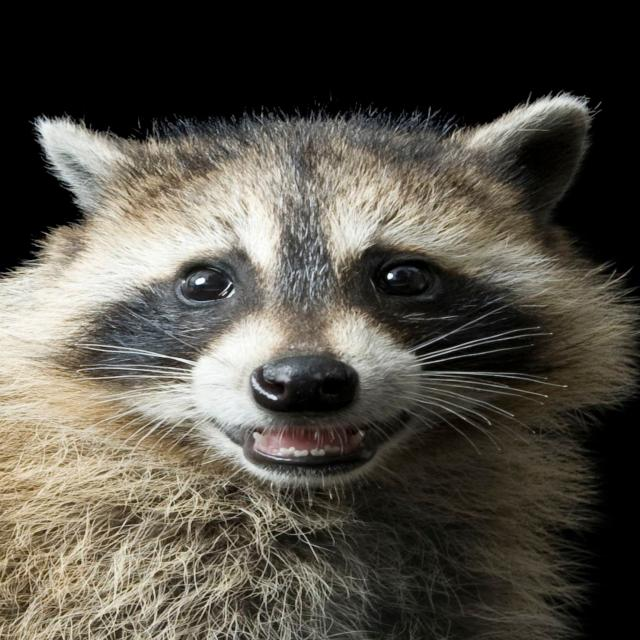Raccoon: (0, 89, 640, 640)
